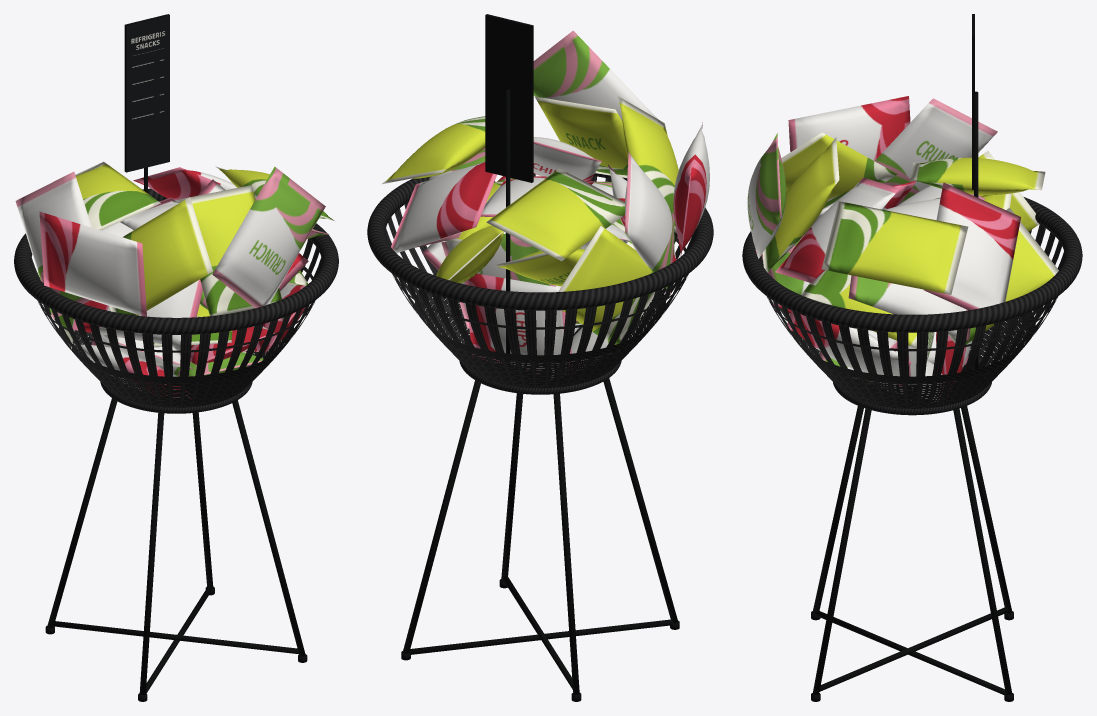
File: best.glb
The picture shows the model from 3 angles, left to right: view 1: azimuth 30°, elevation 25°; view 2: azimuth 150°, elevation 25°; view 3: azimuth 270°, elevation 25°; orthographic projection. The views are drawn at different scales.
Parts seen in each view (by area): view 1: Basket woven cord wall, Snack bag 24, Snack bag 25, Basket rolled rope rim, REFRIGERIS SNACKS sign board, Snack bag 17, Snack bag 23, Snack bag 20, Snack bag 21, Snack bag 13, Stand leg 2, Stand leg 3 (+14 smaller); view 2: Basket woven cord wall, Basket rolled rope rim, REFRIGERIS SNACKS sign board, Snack bag 20, Snack bag 22, Snack bag 24, Snack bag 05, Snack bag 23, Snack bag 21, Snack bag 17, Snack bag 26, Snack bag 01 (+14 smaller); view 3: Basket woven cord wall, Snack bag 26, Basket rolled rope rim, Snack bag 22, Snack bag 21, Snack bag 25, Snack bag 23, Snack bag 20, Snack bag 19, Snack bag 24, Snack bag 17, Snack bag 18 (+13 smaller).
Boxes of the visible parts, x1,y1,x2,y2 form: Basket woven cord wall: (31, 239, 321, 407); Snack bag 24: (212, 166, 325, 308); Snack bag 25: (39, 211, 146, 316); Basket rolled rope rim: (14, 188, 338, 334); REFRIGERIS SNACKS sign board: (124, 14, 169, 172); Snack bag 17: (109, 197, 212, 315); Snack bag 23: (179, 185, 281, 316); Snack bag 20: (75, 161, 160, 230); Snack bag 21: (15, 171, 91, 319); Snack bag 13: (72, 279, 202, 347); Stand leg 2: (139, 413, 164, 695); Stand leg 3: (232, 400, 305, 656); Basket woven cord wall: (385, 173, 695, 388); Basket rolled rope rim: (367, 173, 713, 310); REFRIGERIS SNACKS sign board: (485, 14, 533, 182); Snack bag 20: (486, 168, 624, 261); Snack bag 22: (391, 161, 496, 253); Snack bag 24: (533, 30, 658, 121); Snack bag 05: (558, 226, 654, 344); Snack bag 23: (535, 96, 627, 178); Snack bag 21: (625, 152, 674, 294); Snack bag 17: (618, 96, 690, 240); Snack bag 26: (381, 116, 485, 184); Snack bag 01: (465, 273, 572, 374); Basket woven cord wall: (760, 224, 1064, 408); Snack bag 26: (821, 201, 968, 294); Basket rolled rope rim: (742, 197, 1082, 332); Snack bag 22: (924, 182, 1020, 310); Snack bag 21: (875, 98, 997, 202); Snack bag 25: (788, 96, 910, 160); Snack bag 23: (762, 137, 839, 272); Snack bag 20: (910, 157, 1045, 194); Snack bag 19: (775, 177, 899, 283); Snack bag 24: (747, 133, 786, 258); Snack bag 17: (781, 132, 897, 208); Snack bag 18: (848, 275, 970, 340).
Bounding box in the file's own units: 0.642 × 1.32 × 0.642.
9 materials, 6 textured.
